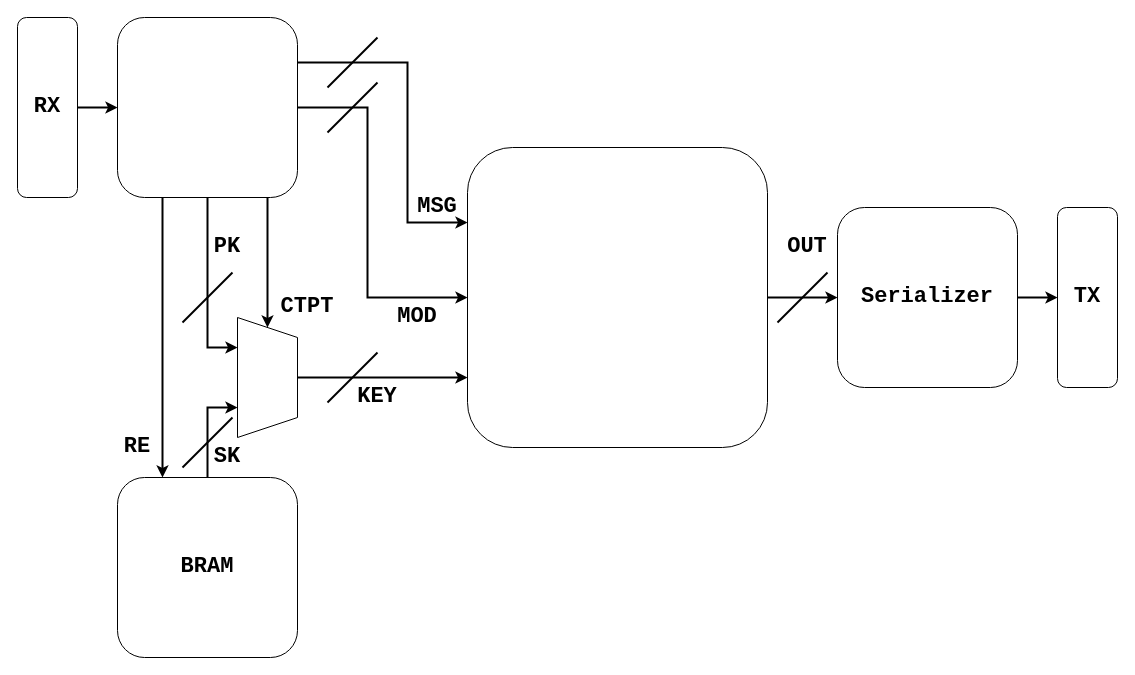
Image size: 1135x675. Some labels were removed from this diagram. Here are the shapes that lost their labels. From the top down, the centre of each, then its label:
point (207, 107): Deserializer
point (617, 297): RSA Encryptor/Decryptor
